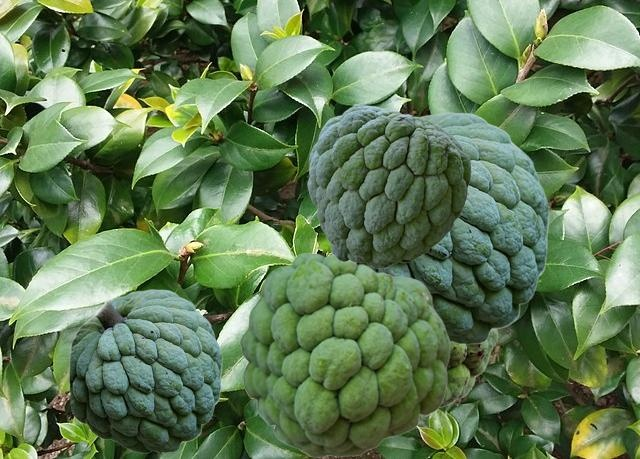atis: (361, 112, 548, 344), (239, 252, 449, 456), (307, 104, 470, 267), (69, 289, 221, 452), (440, 330, 497, 407)
